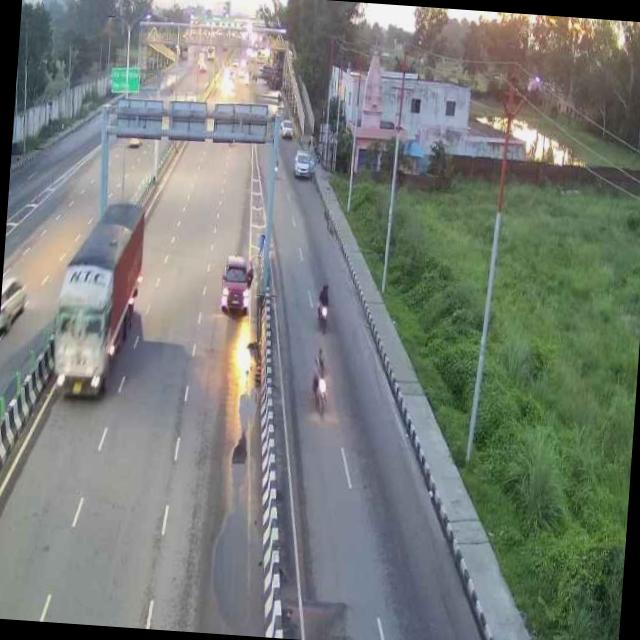car: (212, 250, 256, 316), (0, 271, 29, 337)
